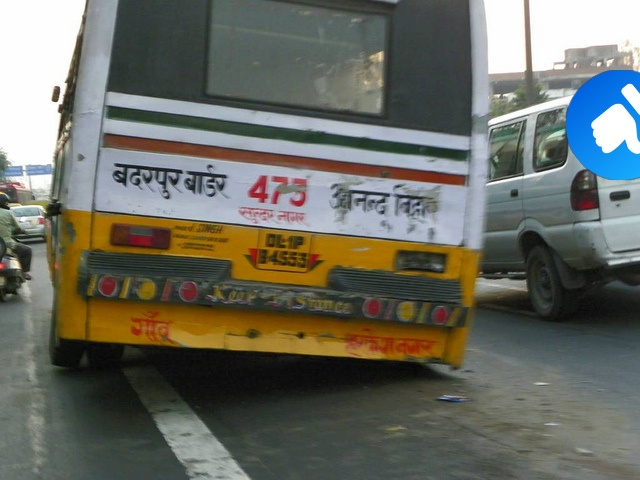like: (566, 70, 640, 180)
